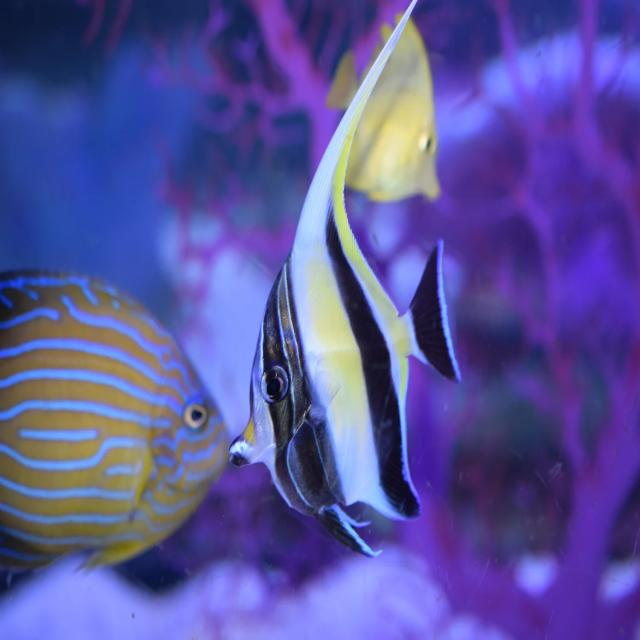MorishIdol: (227, 2, 462, 560)
